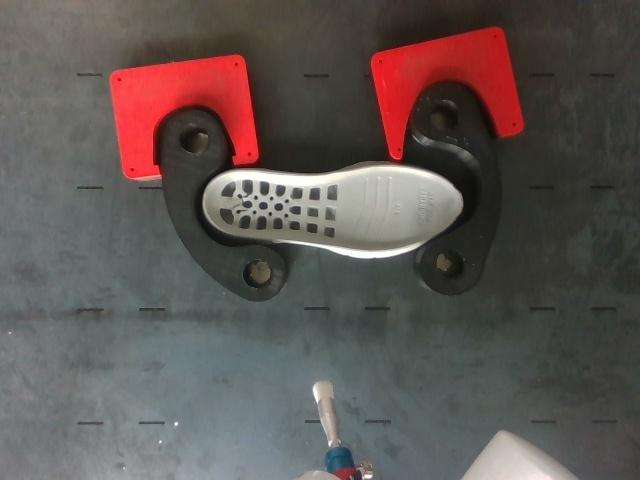shoes: (205, 167, 462, 250)
